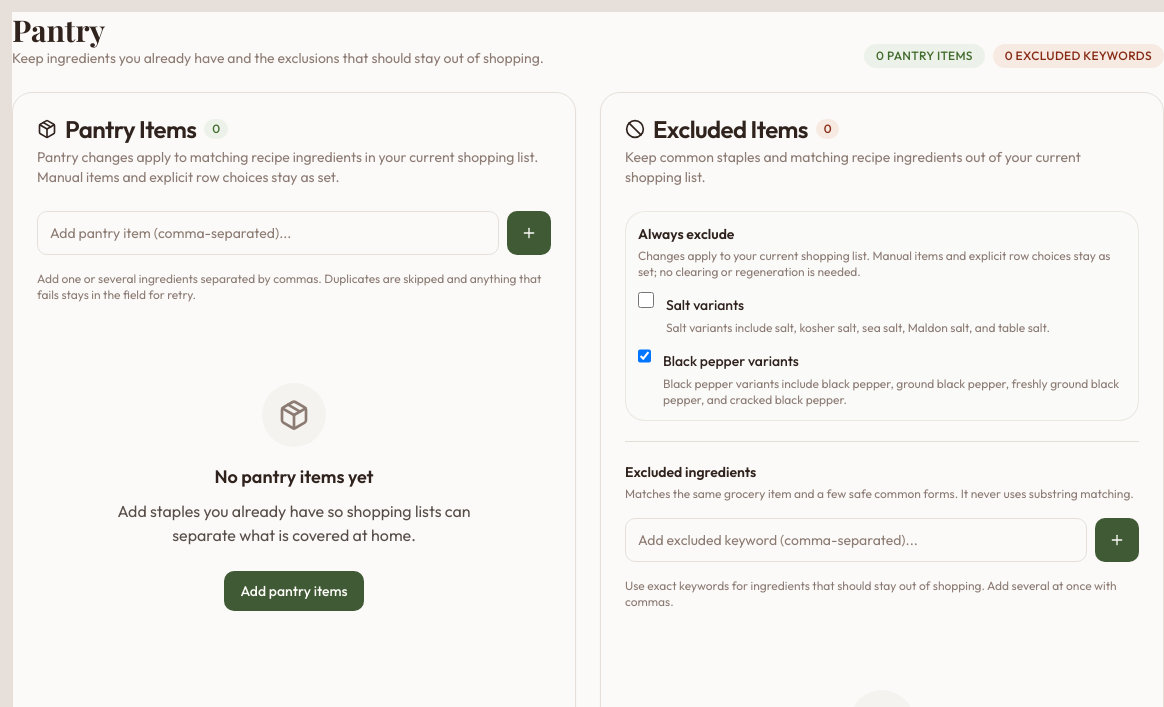
Test case: PantryList › preserves unresolved pantry failures in the input and surfaces grouped item feedback
Step 1. Type "garlic, salt" into the field with placeholder "Add pantry item (comma-separated)..." → (268, 233), box [37,211,499,255]
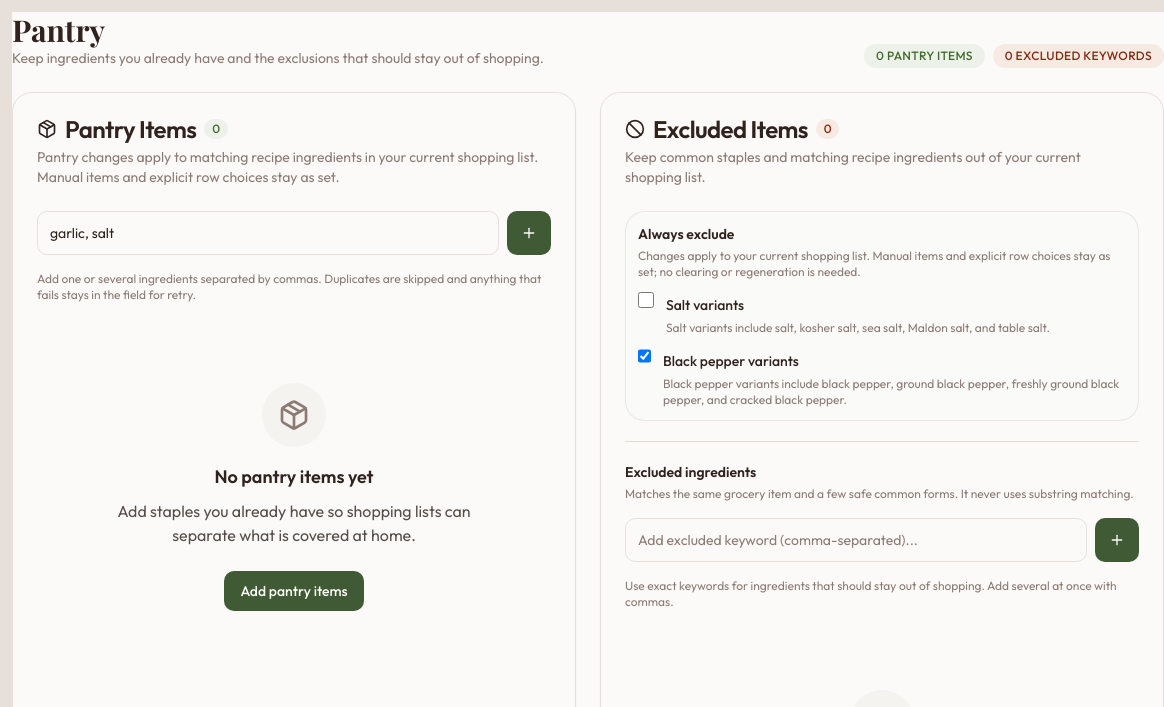
Step 2. Submit the 1st form with placeholder "add pantry item", box [37,211,551,255]
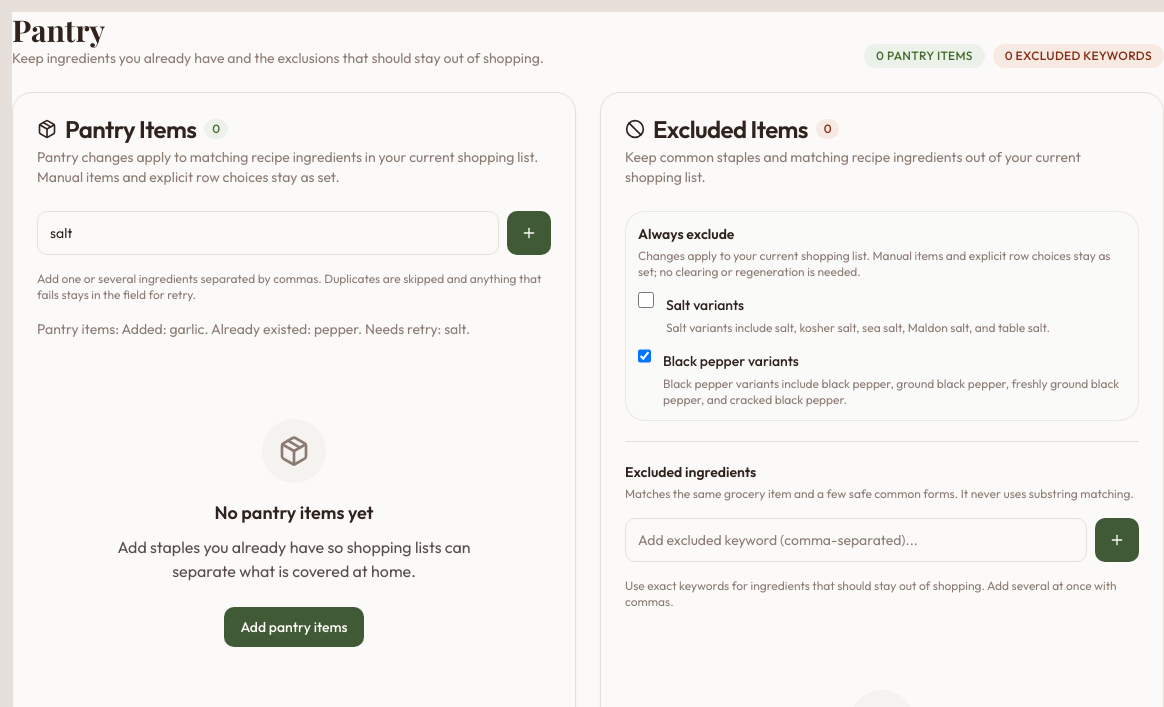
Now the field showing "salt" is shown, box [37,211,499,255]
Now the text "Pantry items: Added: garlic. Already existed: pepper. Needs retry: salt." is shown, box [37,320,470,338]
